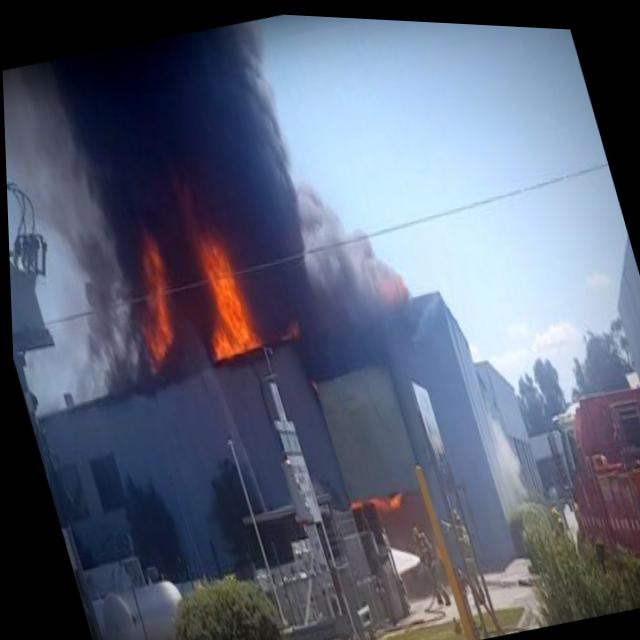fire: (172, 205, 270, 370), (107, 222, 195, 382), (337, 471, 407, 517), (271, 305, 303, 340)
